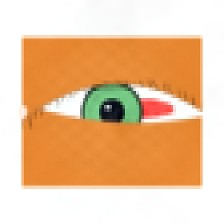hemorrhage_spot: (92, 70, 188, 147)
